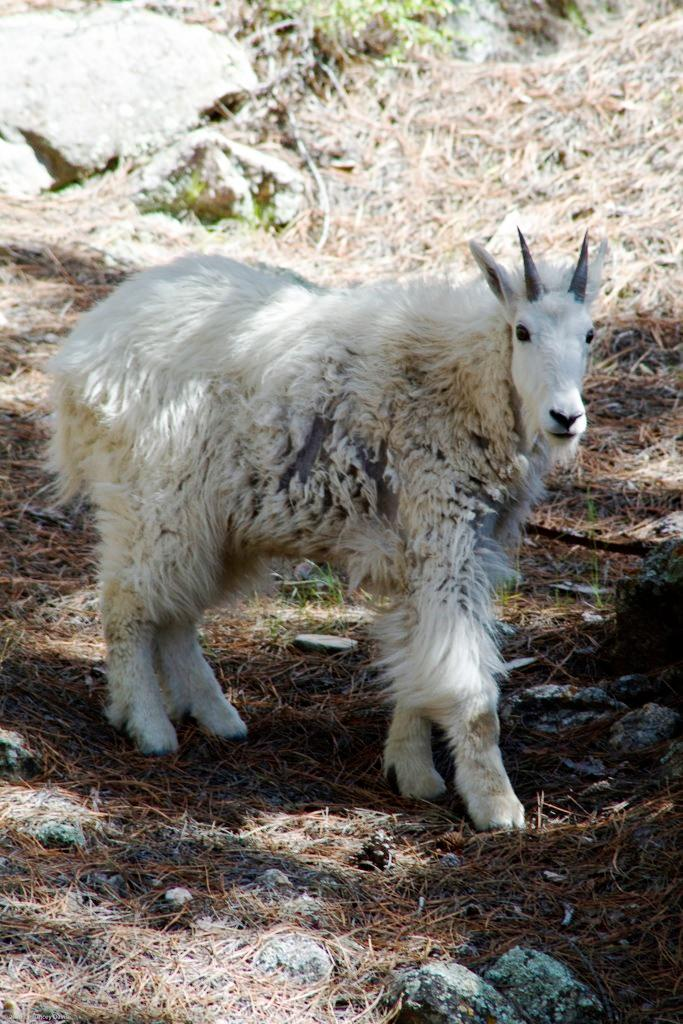Sheep: (39, 225, 683, 835)
